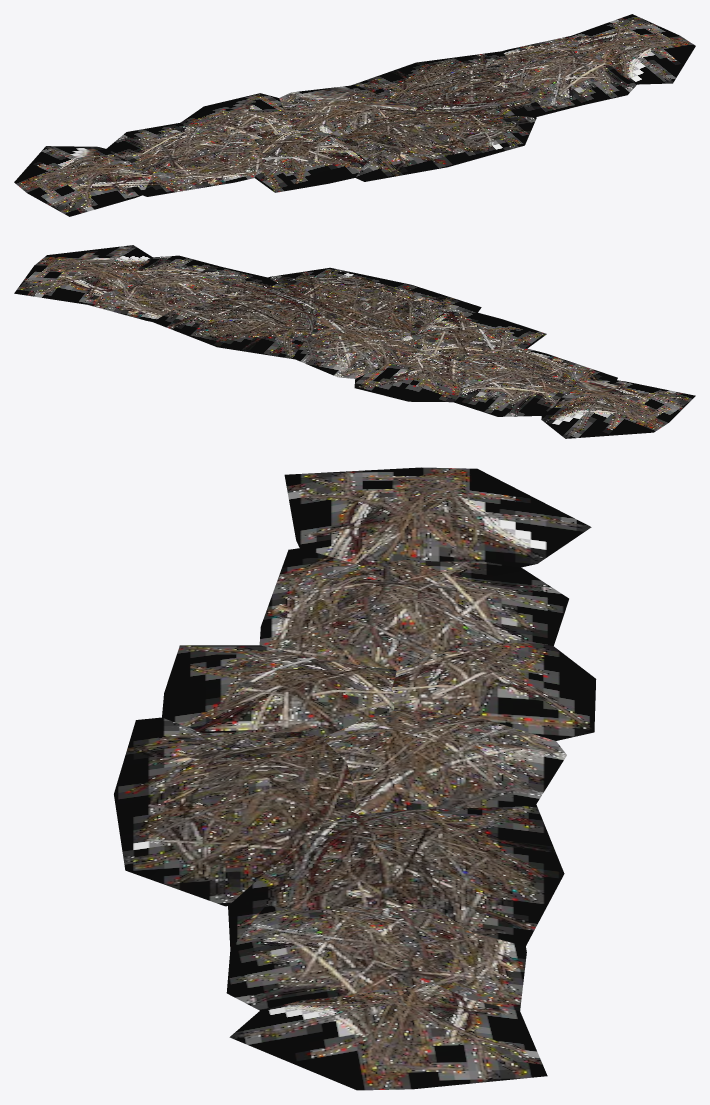
Rendered from JAIL_Debris_WoodStick_B-transformed.glb.
3 views of the same model, one above another, from view 1: azimuth 30°, elevation 25°; view 2: azimuth 150°, elevation 25°; view 3: azimuth 270°, elevation 25° (orthographic). The views are drawn at different scales.
Parts seen in each view (by area): view 1: default; view 2: default; view 3: default.
Boxes of the visible parts, box(x1,y1,x2,y2) form: default: box(14, 14, 695, 216); default: box(14, 245, 695, 438); default: box(114, 467, 596, 1090).
Bounding box in the file's own units: 3.42 × 0.0564 × 1.12.
1 material, 1 textured.
